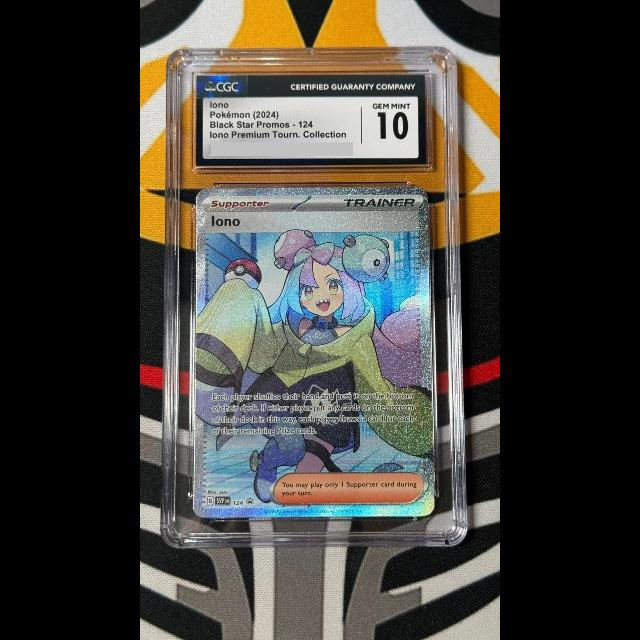card: (193, 186, 435, 517)
cgc_label: (196, 74, 428, 167)
cgc_slab: (162, 47, 469, 548)
